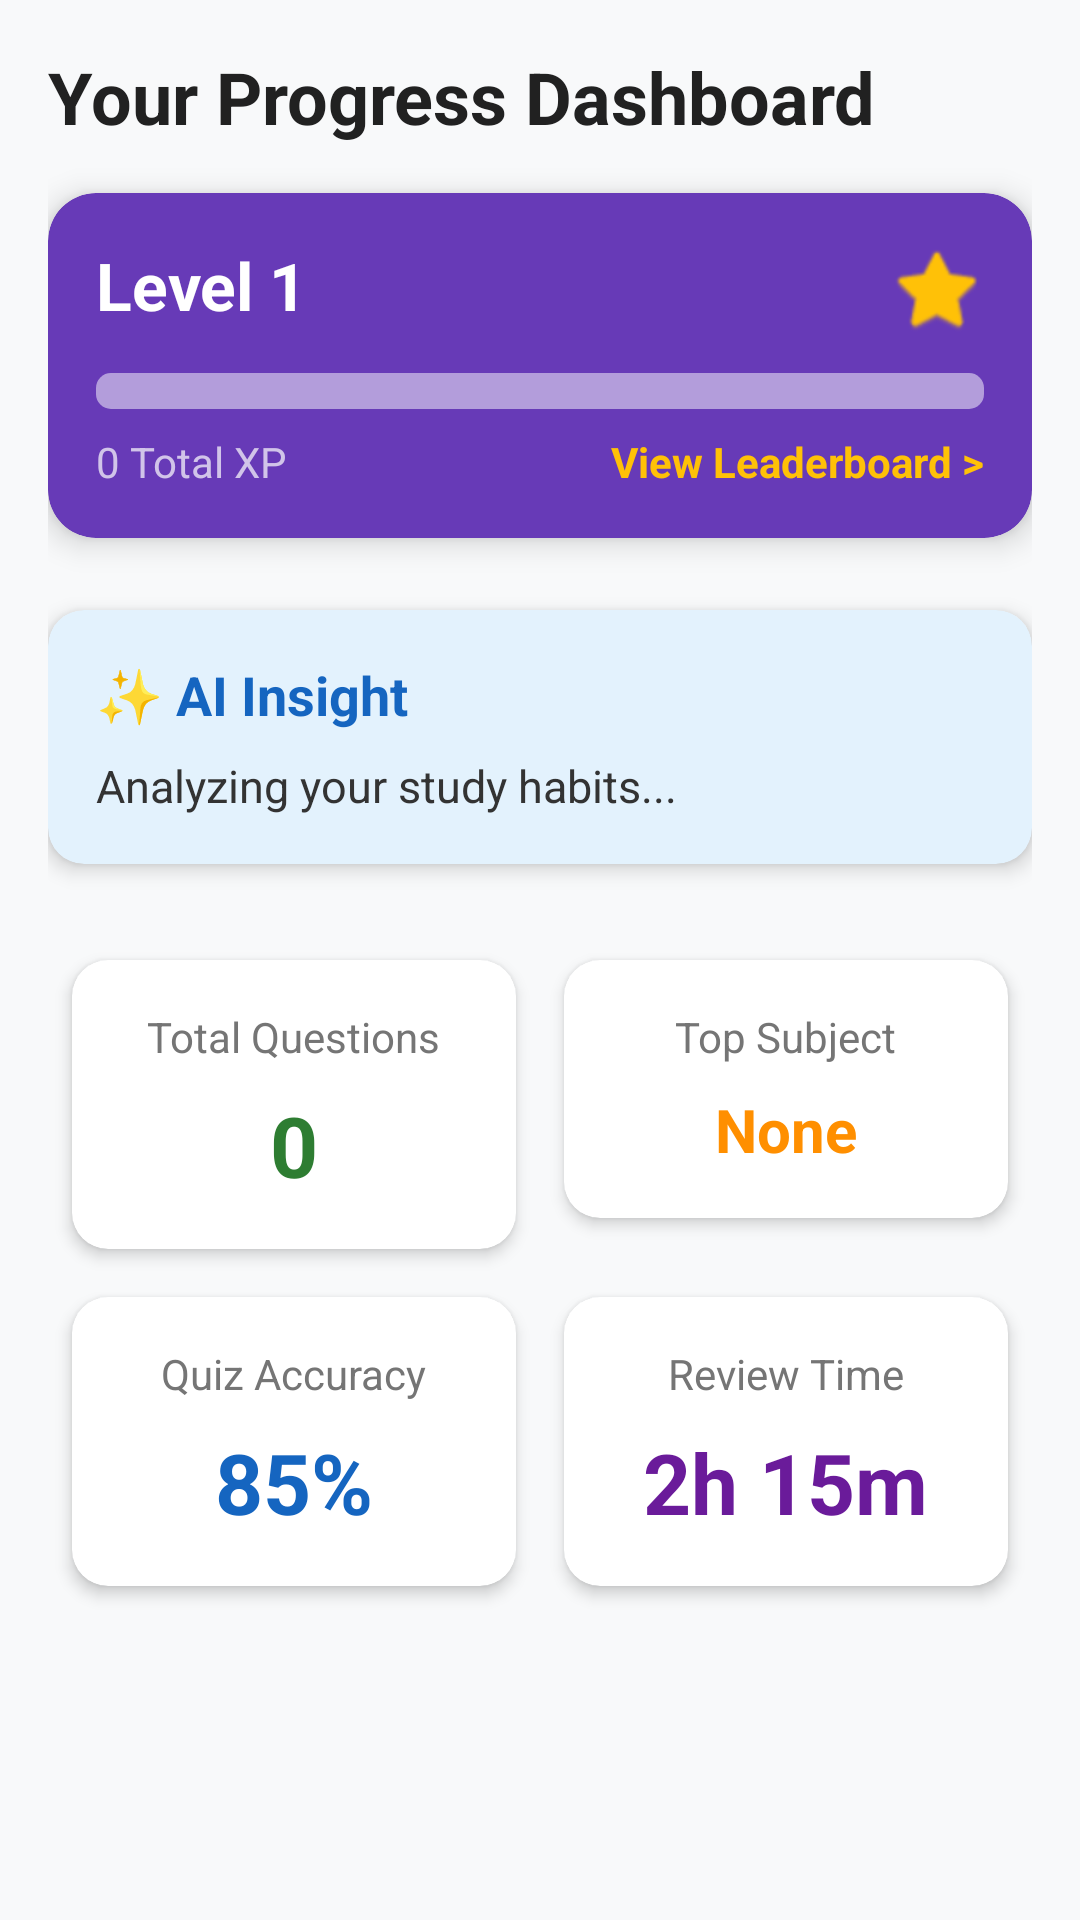

Point at icon controls on the screen. Image size 1080px x 1920px, points as (x=x, y=y).
star on: (x=937, y=289)
